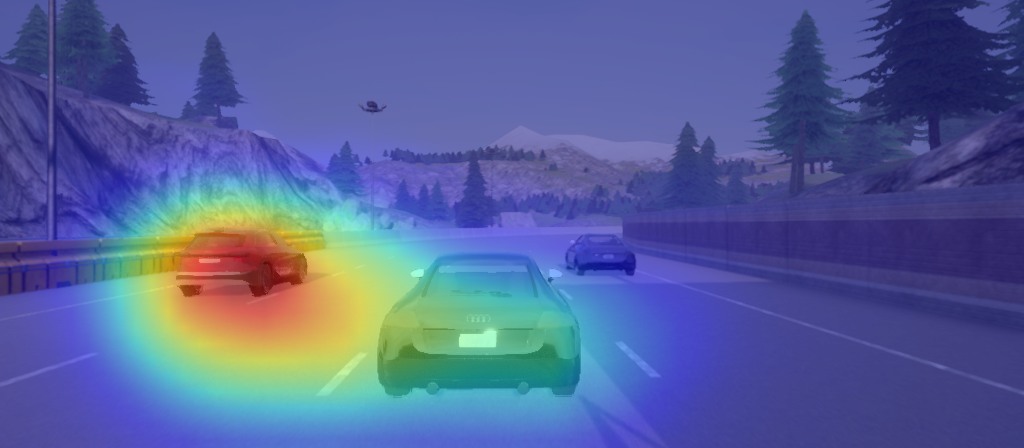Barrier: (654, 203, 1017, 267), (6, 241, 180, 278)
Car: (373, 250, 589, 404), (171, 226, 314, 302), (563, 231, 644, 282)
Lane Marker: (5, 346, 97, 391), (309, 348, 371, 400), (609, 335, 665, 385), (558, 283, 581, 308)
Light Pole: (41, 1, 62, 242), (353, 96, 390, 231)
